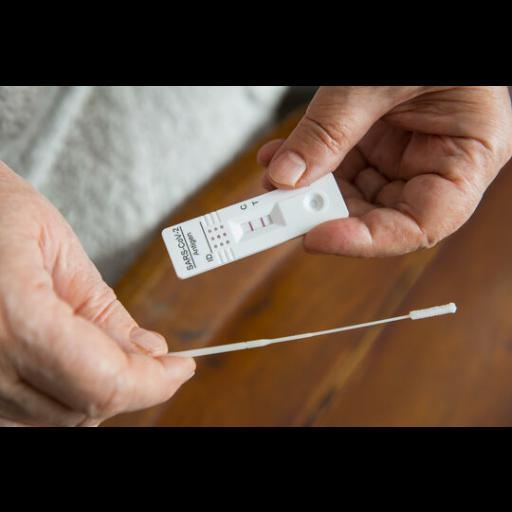Pos: (162, 168, 349, 278)
